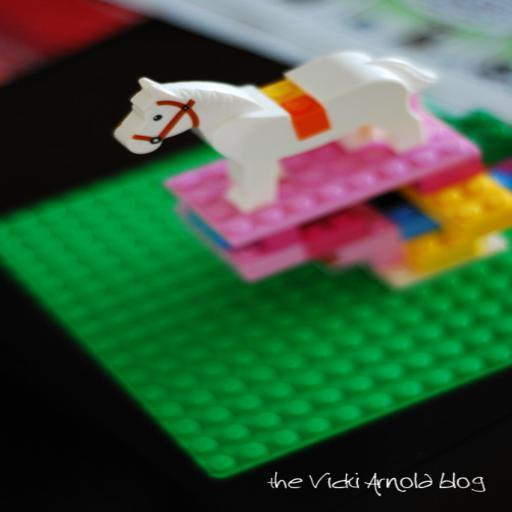horse: (109, 49, 444, 208)
